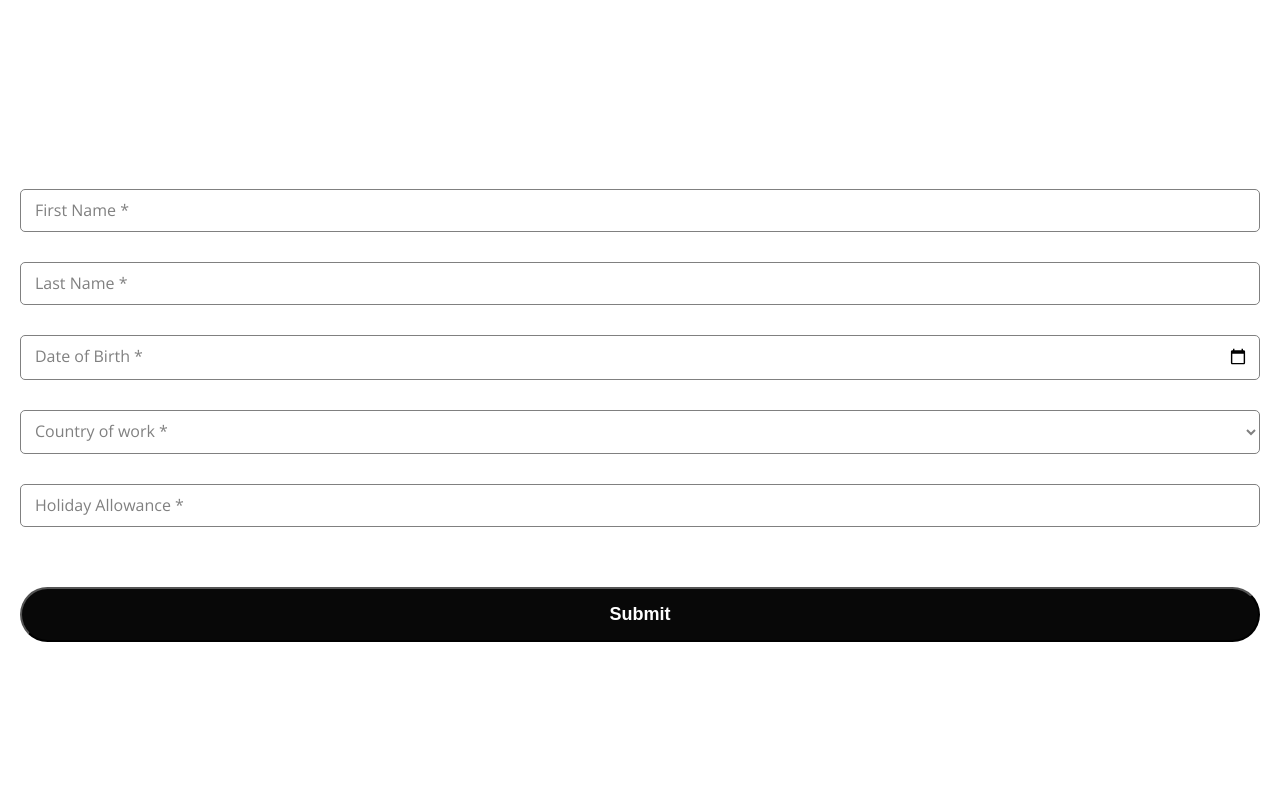
Test: <OnboardingForm /> › when country of work is ghana show 'marital status' and 'number of children'
Select "Ghana" in the dropdown with test id "country_of_work" at (640, 432), box [20,410,1260,454]
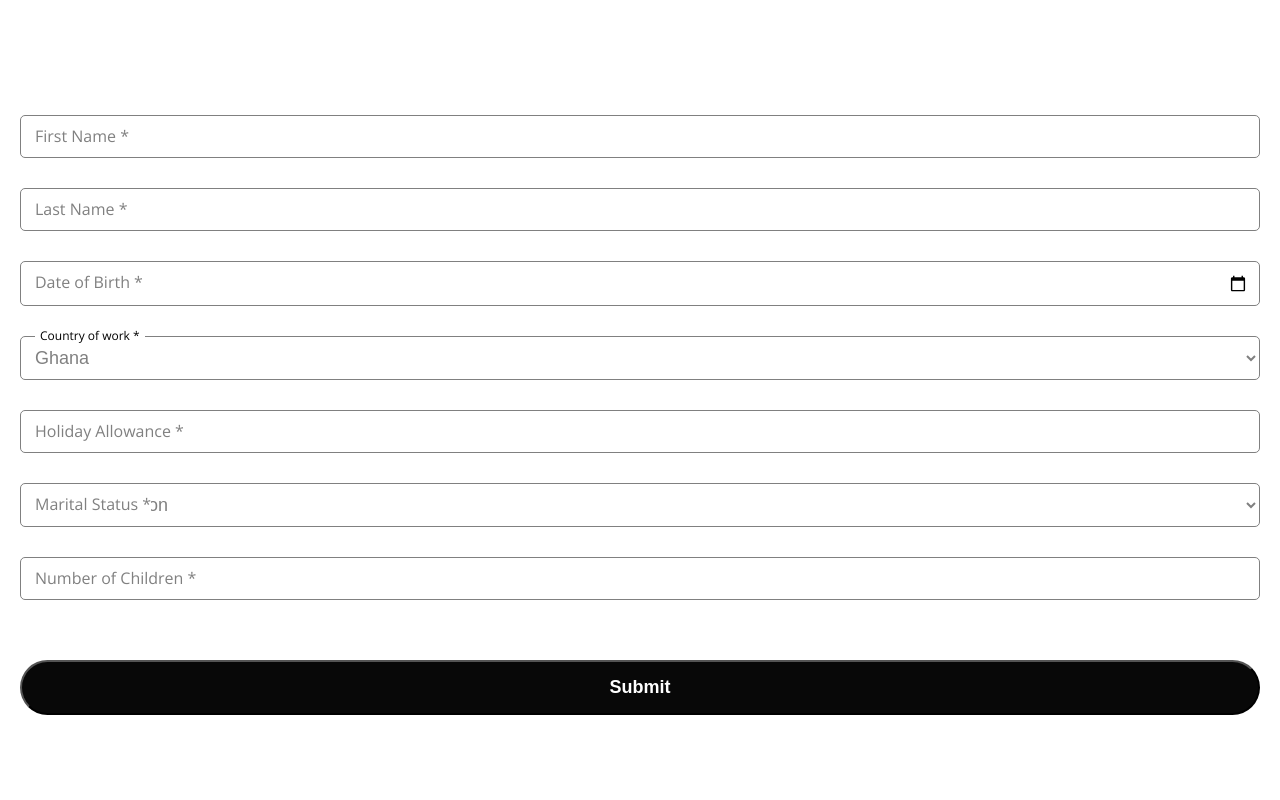
Result: the dropdown with test id "marital_status" is shown at [20,483,1260,527]
Result: the number field with test id "number_of_children" is shown at [20,557,1260,600]
